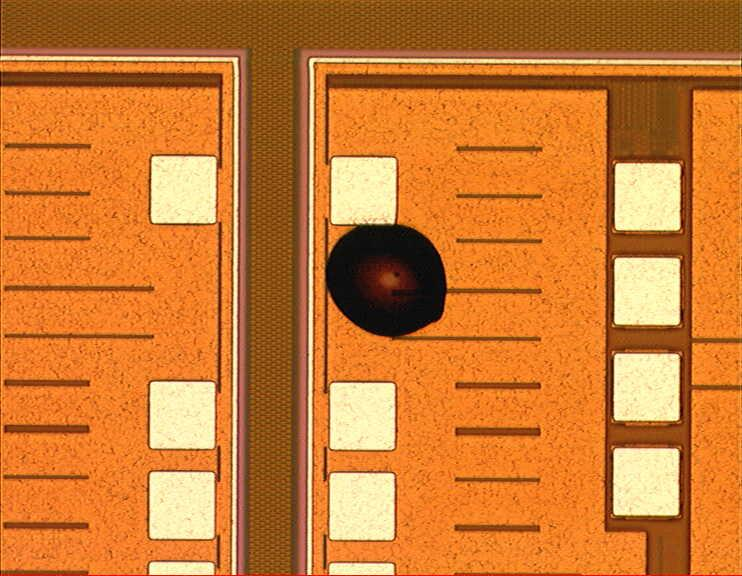PIQ PARTICLE: (323, 220, 454, 342)
